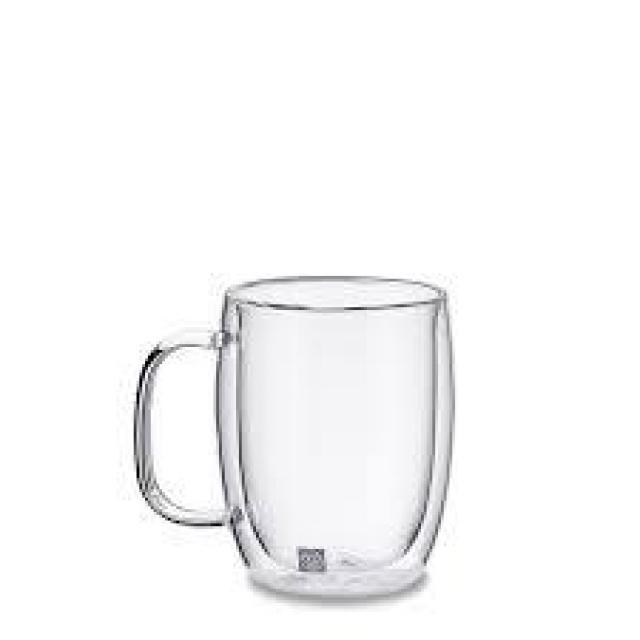glass: (128, 270, 461, 609)
